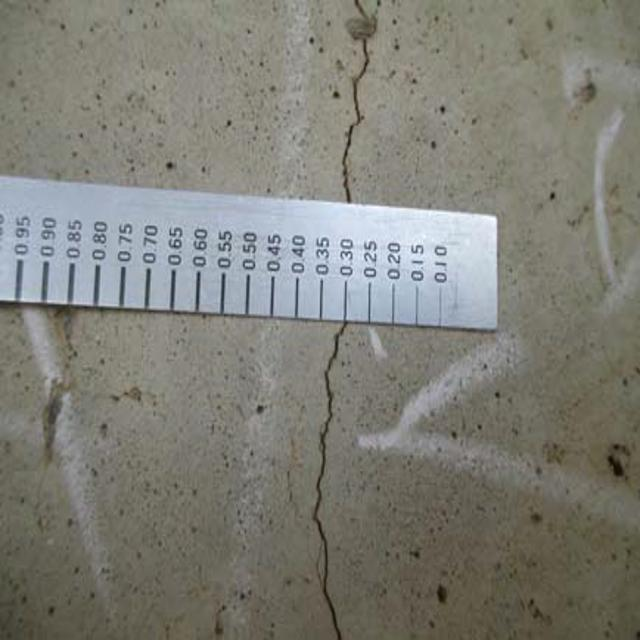crack: (293, 324, 376, 640), (320, 2, 413, 205)
